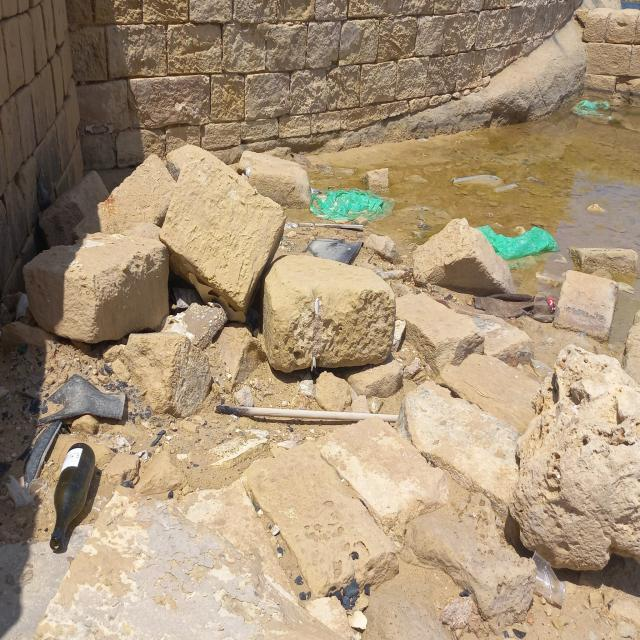Bottle: (49, 441, 96, 551)
Cup: (531, 550, 567, 607)
Other litter: (213, 404, 398, 423), (445, 293, 556, 323), (453, 175, 517, 193), (285, 221, 364, 230)
Other plastic: (2, 370, 130, 506), (301, 238, 363, 264), (15, 292, 28, 323), (314, 298, 319, 313), (245, 166, 251, 177)
Paper: (188, 273, 245, 323)
Plastic bag - wrapper: (474, 225, 561, 270), (310, 188, 396, 222), (570, 100, 613, 123)
